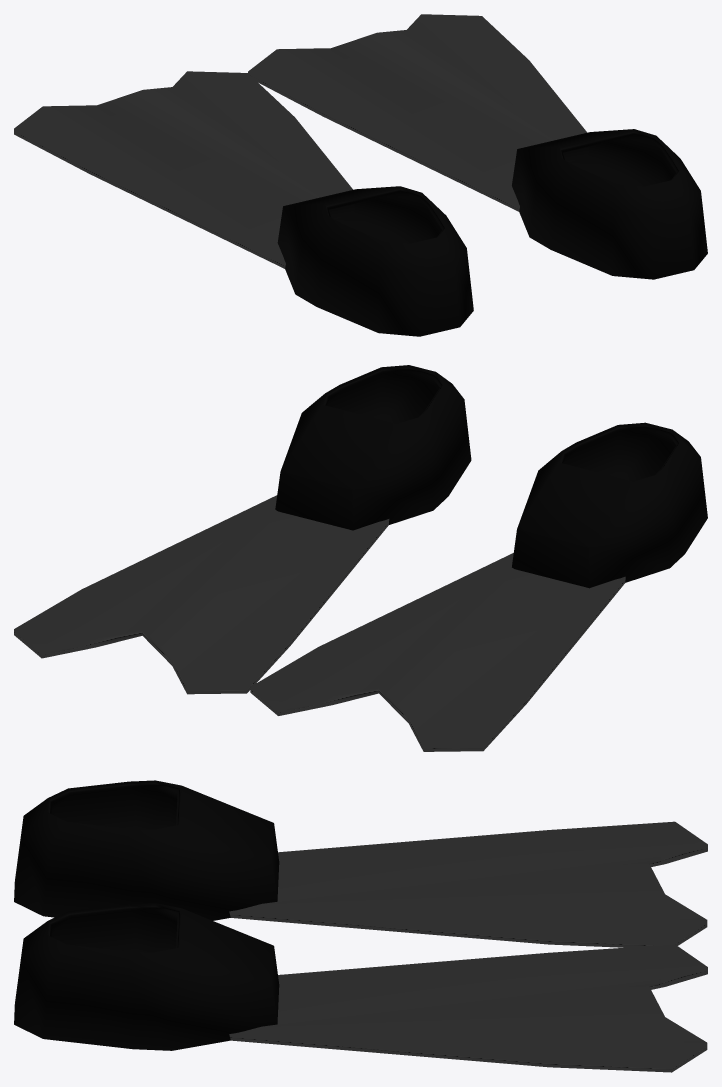
Rendered from item-fins-pro.glb.
3 views of the same model, one above another, from view 1: azimuth 30°, elevation 25°; view 2: azimuth 150°, elevation 25°; view 3: azimuth 270°, elevation 25° (orthographic). The views are drawn at different scales.
Bounding box in the file's own units: 4.5 × 0.7414 × 5.4.
2 materials, 1 textured.
